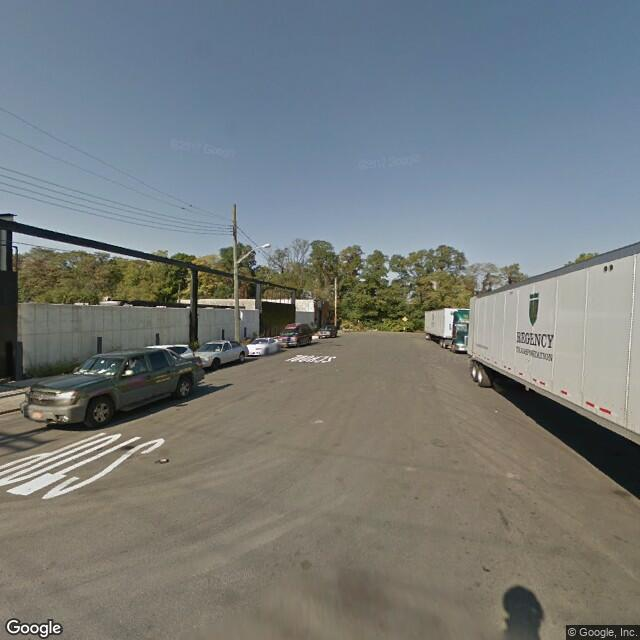litter: (153, 457, 172, 465)
